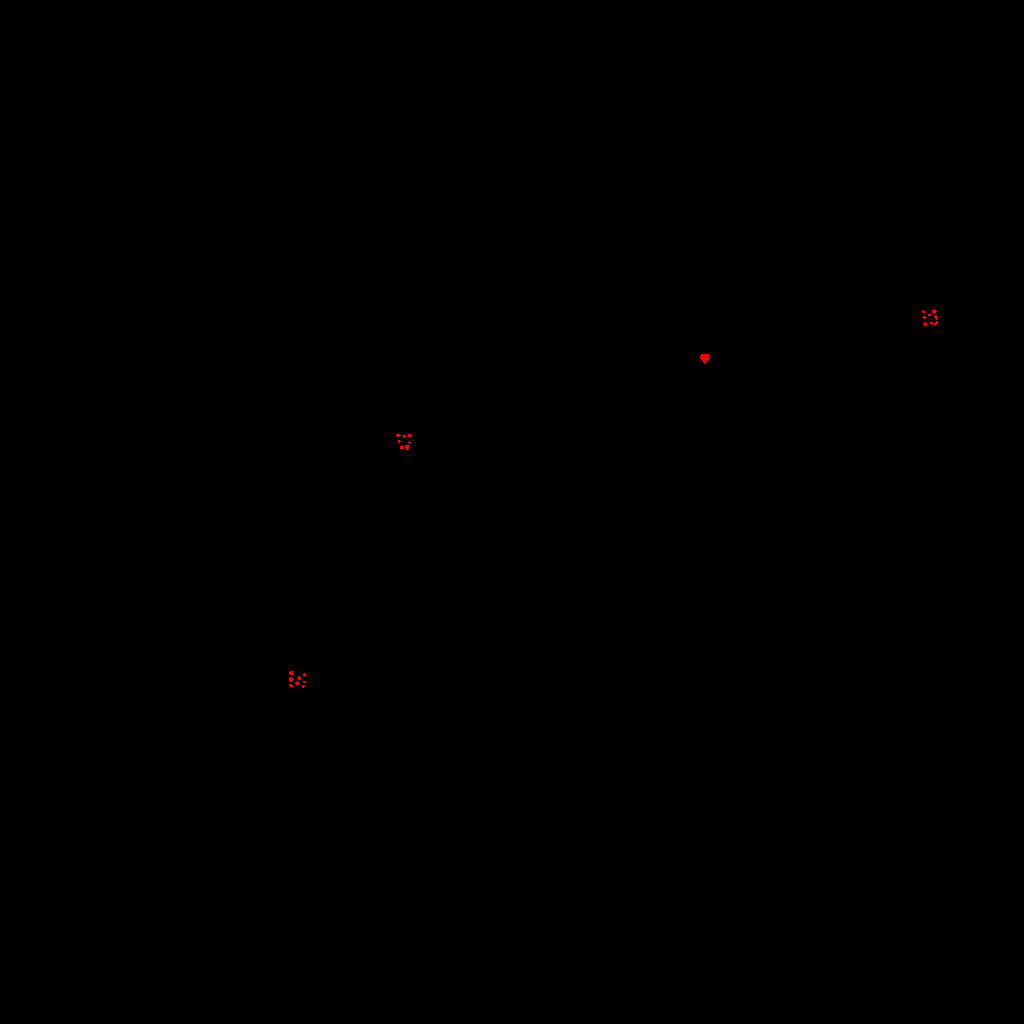Target: (700, 354, 709, 364), (932, 309, 937, 314), (934, 315, 938, 320), (934, 321, 938, 326), (405, 445, 409, 450), (289, 677, 293, 682), (923, 322, 927, 326), (400, 445, 404, 449), (289, 671, 293, 675), (297, 676, 301, 680), (295, 681, 299, 685), (922, 316, 927, 319), (396, 434, 401, 437), (303, 673, 306, 677), (289, 684, 293, 687), (922, 310, 925, 313), (928, 314, 931, 317), (930, 322, 933, 325), (408, 434, 411, 437), (403, 435, 406, 438), (398, 440, 401, 443), (408, 441, 411, 444), (302, 685, 305, 688), (303, 681, 306, 683)
